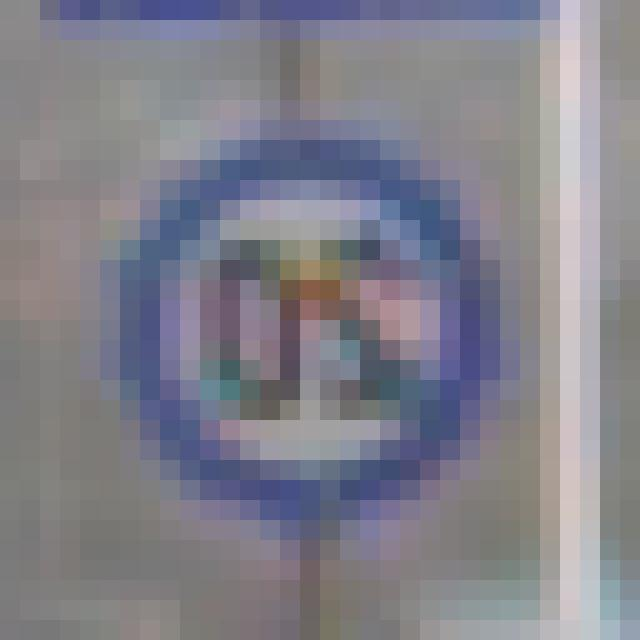SPEED LIMIT 20: (103, 137, 517, 526)
